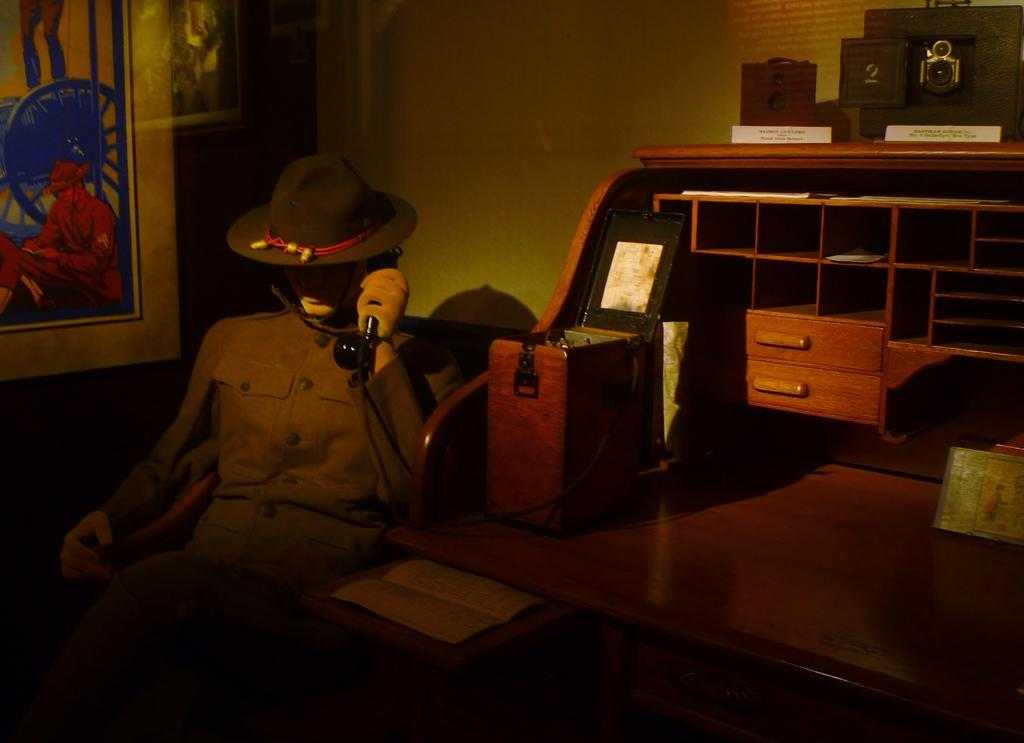Hat: (225, 153, 416, 268), (46, 161, 92, 210)
